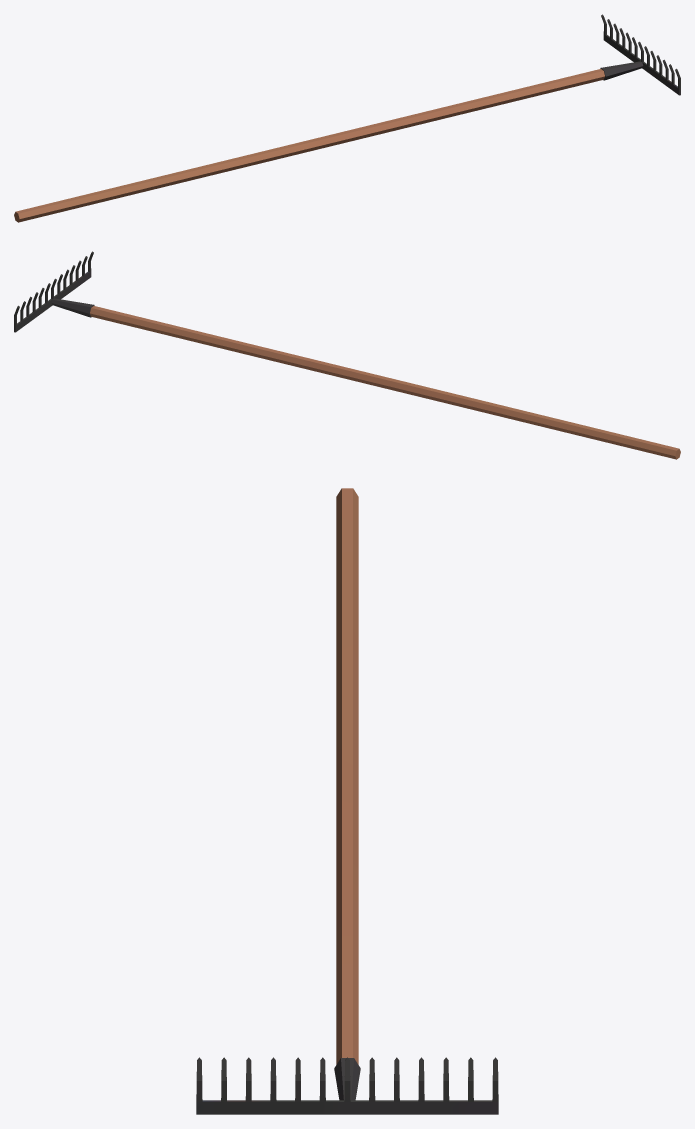
File: rake.glb
3 renders of one model, top to bottom at view 1: azimuth 30°, elevation 25°; view 2: azimuth 150°, elevation 25°; view 3: azimuth 270°, elevation 25°, orthographic. The views are drawn at different scales.
Visible parts, largest first — view 1: Hand_rake; view 2: Hand_rake; view 3: Hand_rake.
Boxes of the visible parts, bbox=[...] form: Hand_rake: bbox=[14, 14, 680, 222]; Hand_rake: bbox=[14, 251, 680, 459]; Hand_rake: bbox=[196, 488, 498, 1114].
Bounding box in the file's own units: 1.42 × 0.0628 × 0.297.
Materials: 1 (1 with a texture image).
